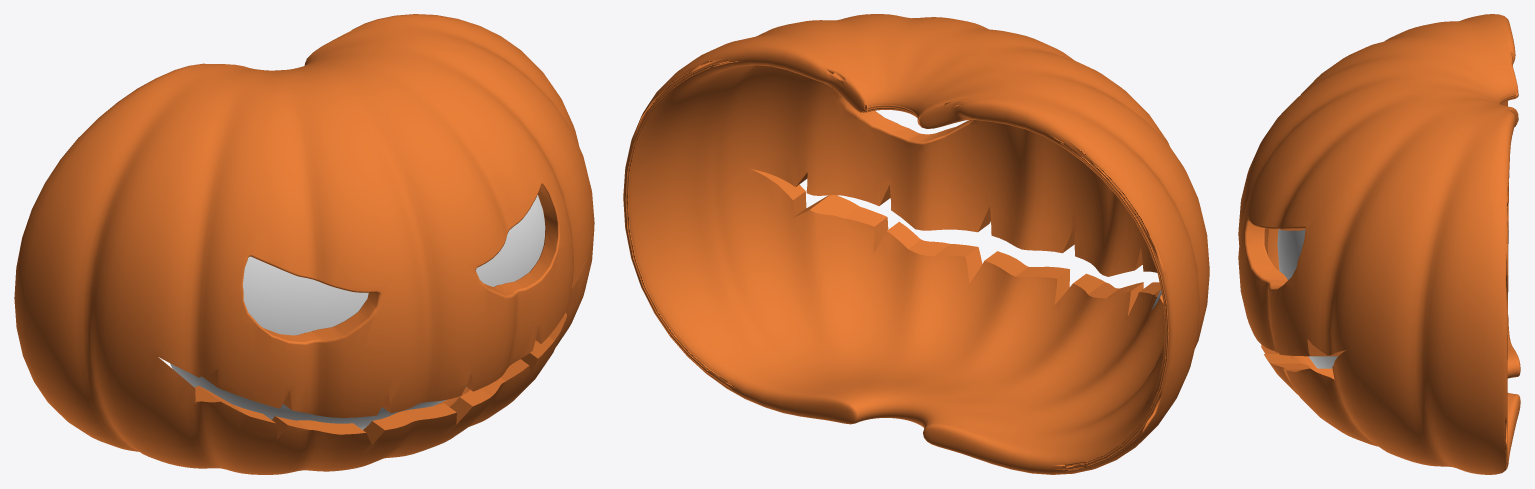
Rendered from pumpkin.glb.
3 views of the same model, side by side, from view 1: azimuth 30°, elevation 25°; view 2: azimuth 150°, elevation 25°; view 3: azimuth 270°, elevation 25° (orthographic). The views are drawn at different scales.
Parts seen in each view (by area): view 1: Pumpkin, Sphere.005; view 2: Pumpkin; view 3: Pumpkin, Sphere.005.
Boxes of the visible parts, x1=… form: Pumpkin: x1=14, y1=14, x2=594, y2=474; Sphere.005: x1=170, y1=195, x2=545, y2=429; Pumpkin: x1=623, y1=14, x2=1209, y2=474; Pumpkin: x1=1238, y1=14, x2=1520, y2=474; Sphere.005: x1=1277, y1=229, x2=1337, y2=368.
Size of the model in its own units: 0.8478 by 0.5385 by 0.4143.
